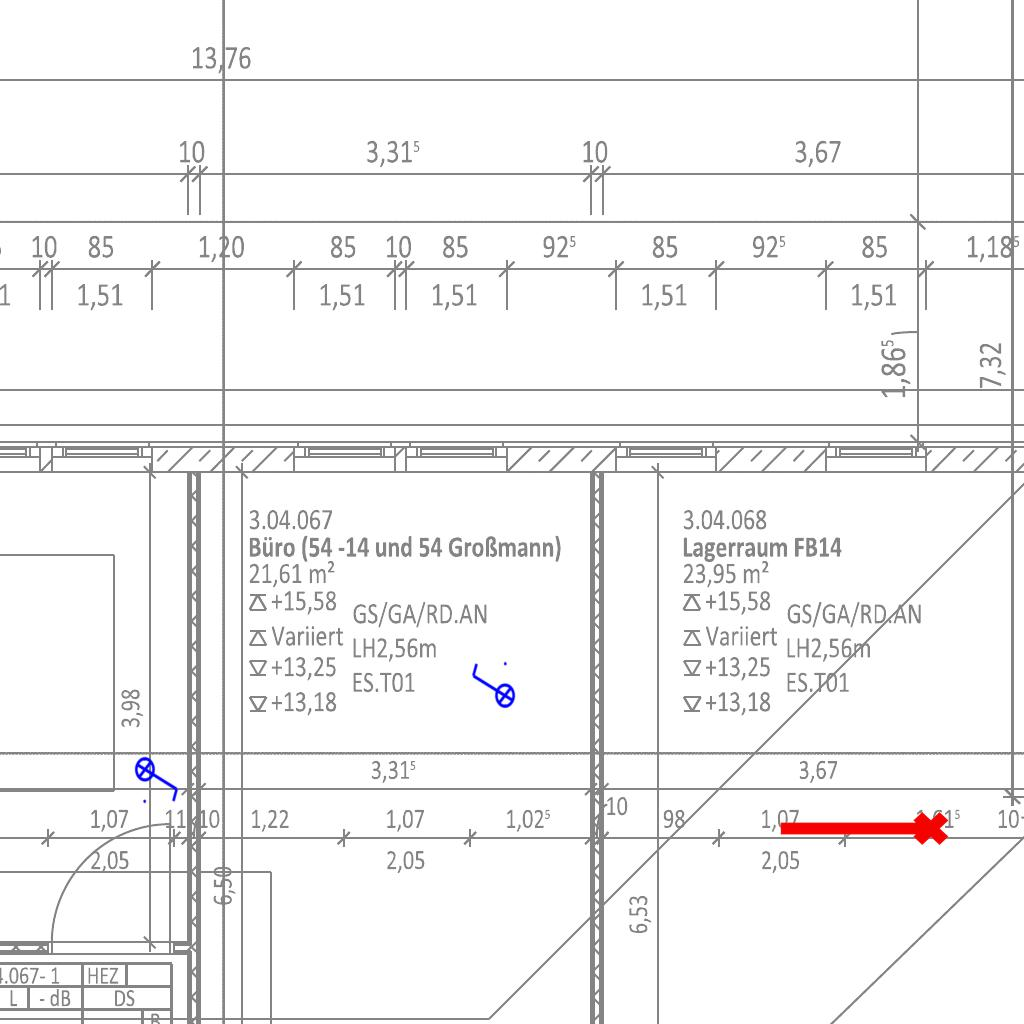ASR_Ansaugoeffnung: (775, 808, 951, 854)
Ausschalter_beleuchtet: (468, 659, 516, 715), (134, 750, 182, 806)
